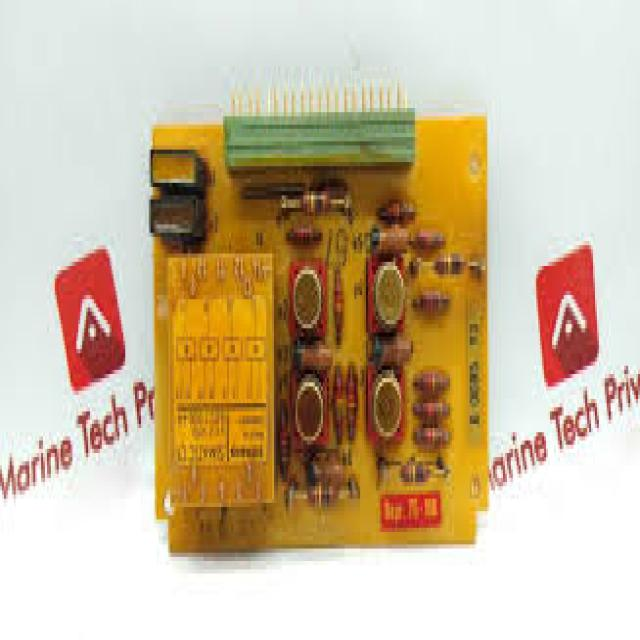pcb: (0, 0, 638, 628), (147, 91, 489, 553), (162, 249, 276, 512), (53, 241, 125, 391), (534, 237, 599, 386)
